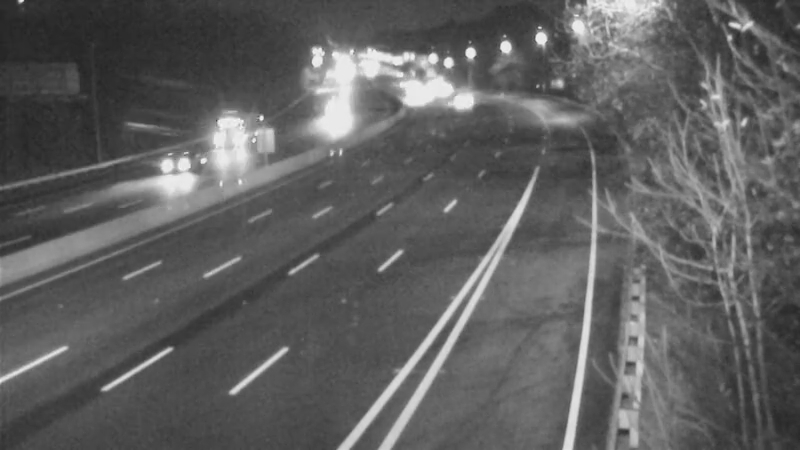vehicle: (123, 125, 203, 205), (391, 69, 441, 119), (440, 76, 490, 126), (203, 113, 253, 163), (309, 87, 359, 137)
